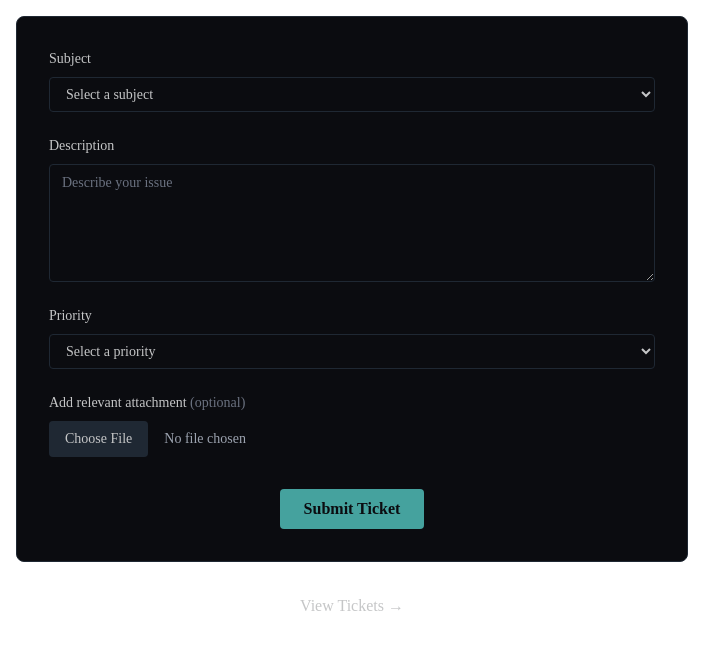
Test case: TicketPage › handles network error
This screenshot has width=705, height=672.
Select "Chat" in the dropdown labelled "Subject": point(352, 94) top-left (49, 77), bottom-right (655, 112)
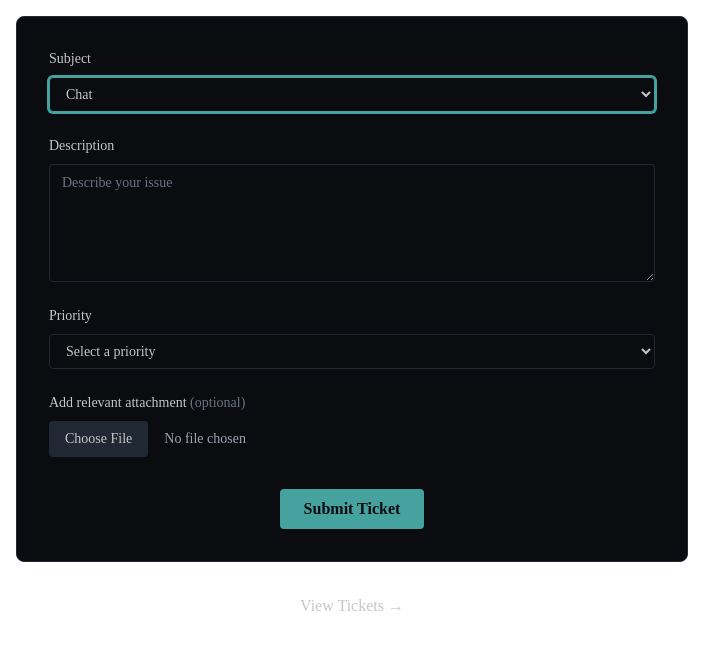
In the text box labelled "Description": point(352, 223) top-left (49, 164), bottom-right (655, 282), type "Chat issue"
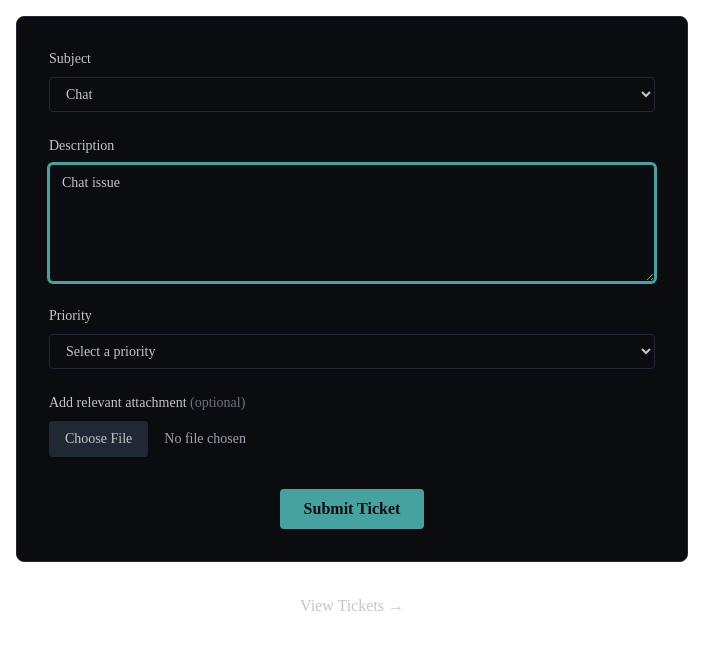
Select "High" in the dropdown labelled "Priority": point(352, 352) top-left (49, 334), bottom-right (655, 369)
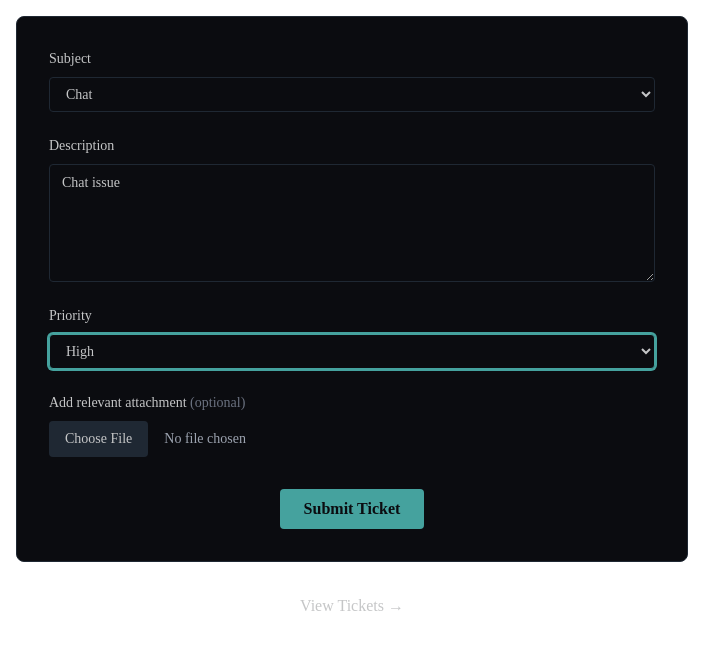
Click the button "Submit Ticket": point(352, 509) top-left (280, 489), bottom-right (424, 529)
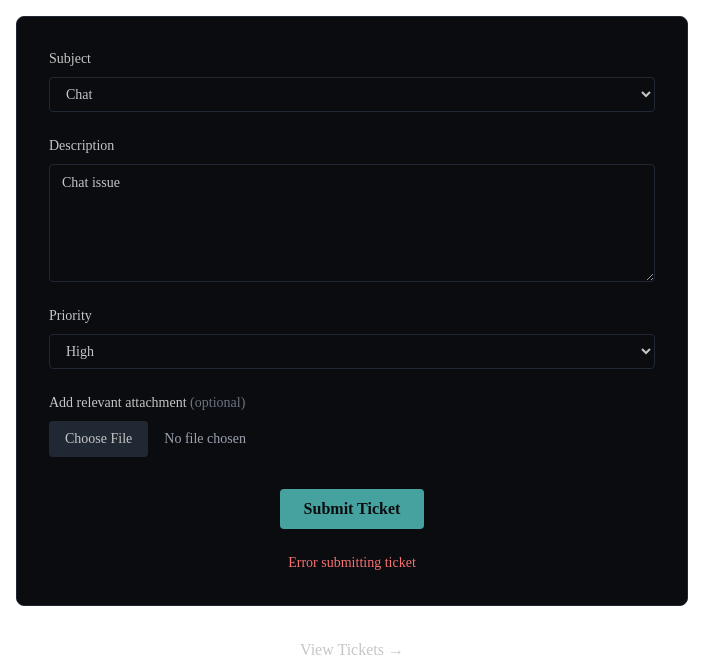
Result: the text "Error submitting ticket" is shown at top-left (288, 555), bottom-right (416, 570)
